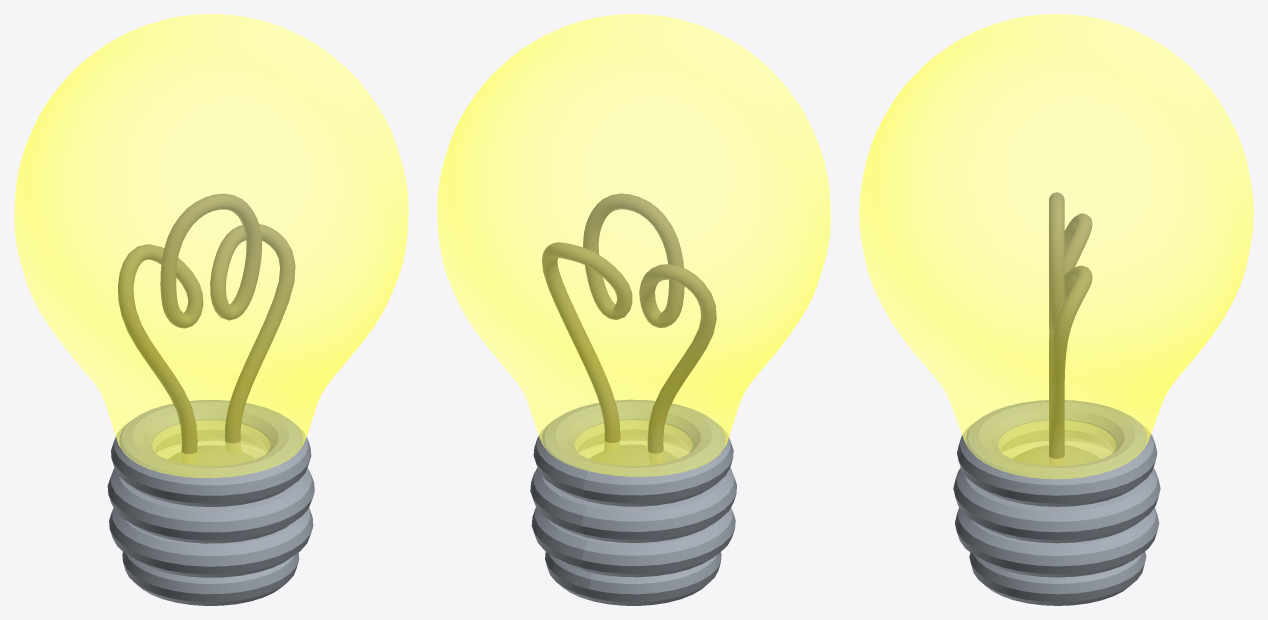
File: lampada.glb
3 renders of one model, left to right at view 1: azimuth 30°, elevation 25°; view 2: azimuth 150°, elevation 25°; view 3: azimuth 270°, elevation 25°, orthographic.
Visible parts, largest first — view 1: pCylinder6; view 2: pCylinder6; view 3: pCylinder6.
Boxes of the visible parts, <box> form: pCylinder6: <box>14,14,408,605</box>; pCylinder6: <box>437,14,830,605</box>; pCylinder6: <box>859,14,1253,605</box>.
Bounding box in the file's own units: 0.0197 × 0.0312 × 0.0197.
